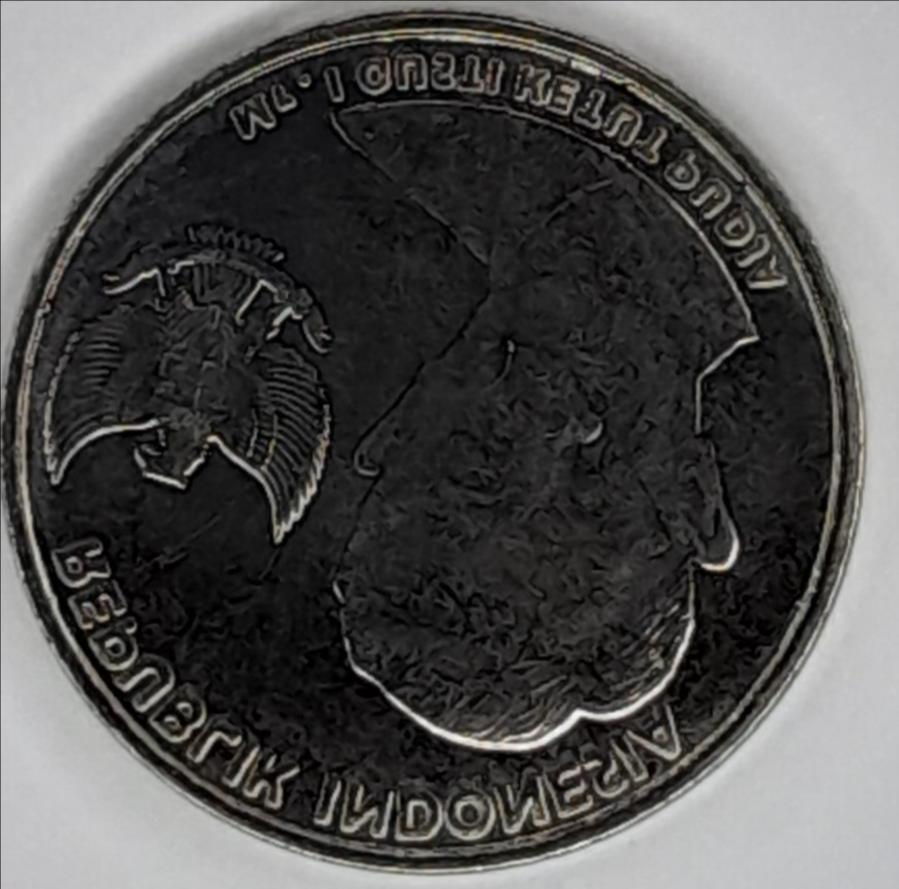coin_1000_e2016: (15, 18, 887, 889)
